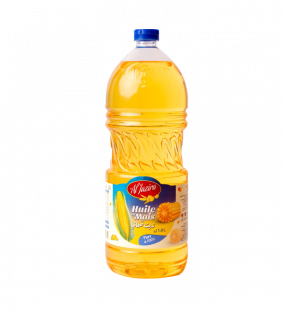AL JAZIRA: (99, 25, 194, 284)
